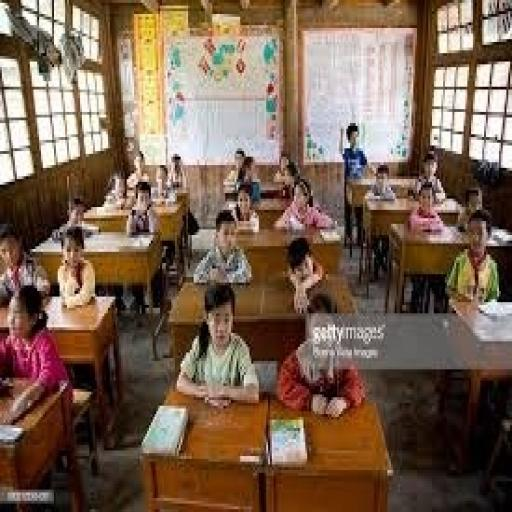sitting: (173, 280, 261, 408), (276, 308, 366, 420), (0, 283, 71, 400), (443, 204, 501, 314), (192, 207, 253, 285), (281, 232, 335, 314), (0, 227, 52, 305), (272, 173, 337, 235), (54, 224, 97, 310)
